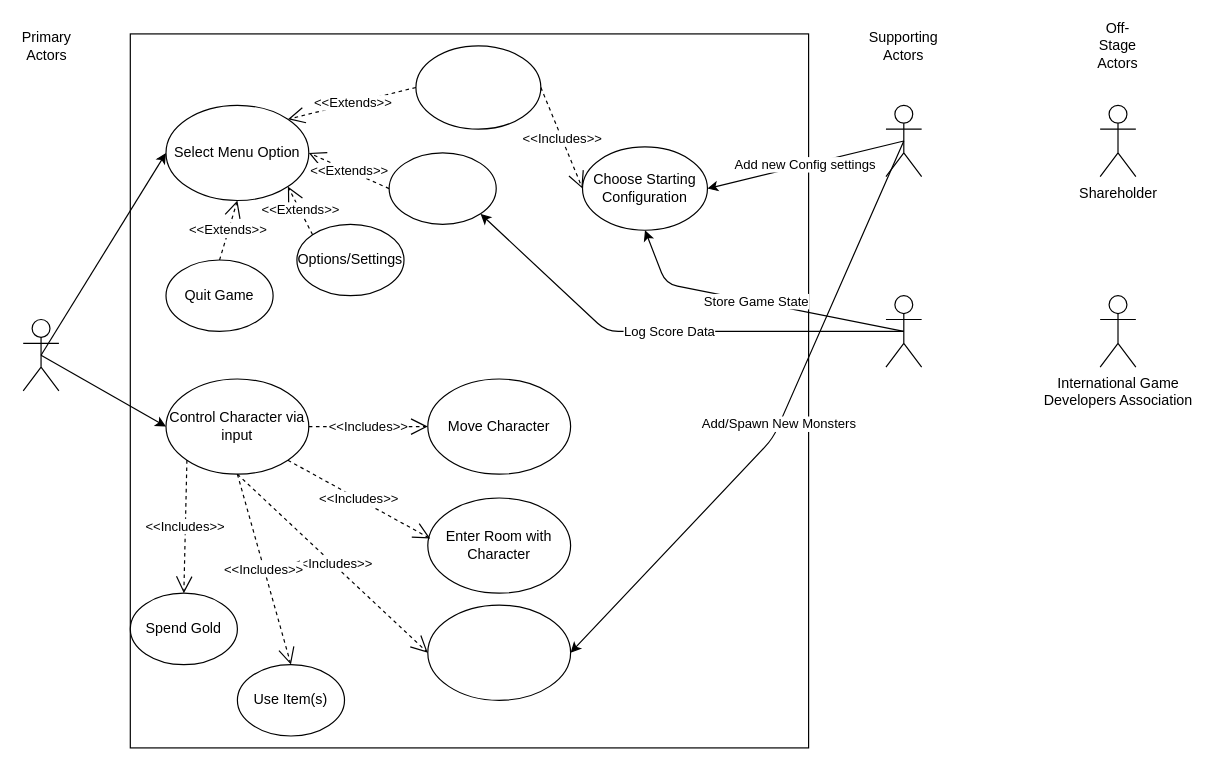
Image size: 1213x769. Some labels were removed from this diagram. The shapes that lost their labels are listed below. From the top down, each one's box as (x1, y1, x2, y2) in pixels, then its label:
(415, 45, 541, 129): Start New Game
(885, 104, 922, 177): Game Admin
(388, 152, 496, 224): View Score
(885, 295, 922, 367): Third-Party Database Service
(22, 318, 59, 391): Player
(427, 604, 571, 700): Attack Monster
